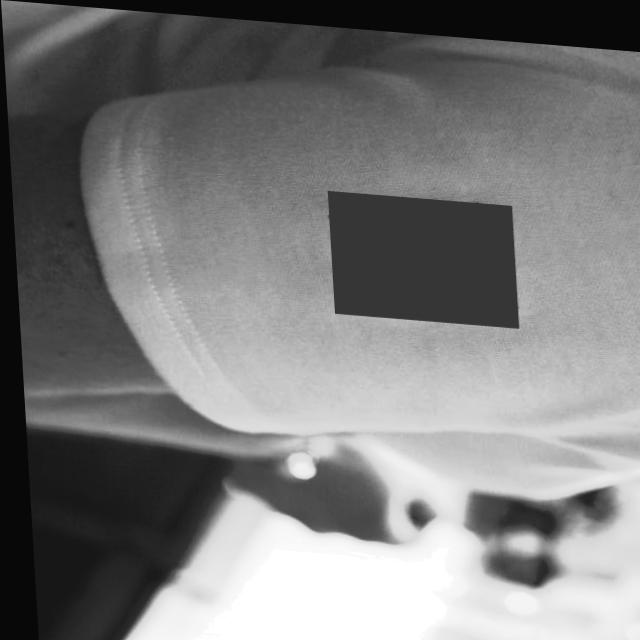qr_code: (325, 185, 514, 320)
